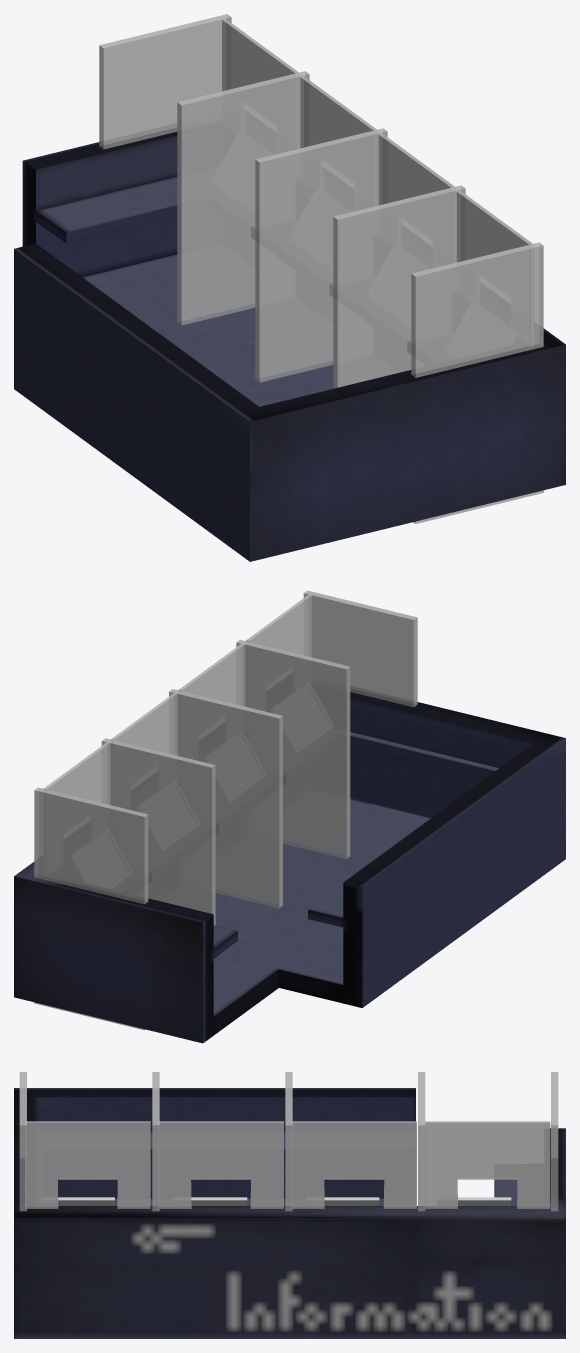
The model's file is Information booth 1.fbx.
3 views of the same model, one above another, from view 1: azimuth 30°, elevation 25°; view 2: azimuth 150°, elevation 25°; view 3: azimuth 270°, elevation 25° (orthographic). The views are drawn at different scales.
Parts seen in each view (by area): view 1: Information booth.001; view 2: Information booth.001; view 3: Information booth.001.
Part boxes in pixels (x1,y1,x2,y2): Information booth.001: [14, 14, 565, 561]; Information booth.001: [14, 590, 565, 1043]; Information booth.001: [14, 1072, 565, 1338].
Bounding box in the file's own units: 207 × 155 × 368.
